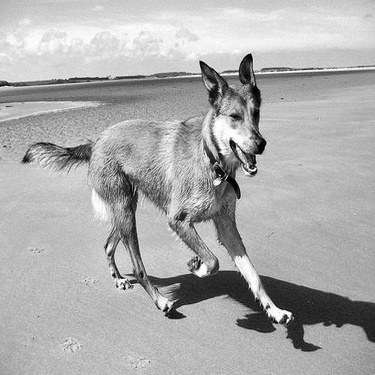dog: (14, 41, 303, 330)
